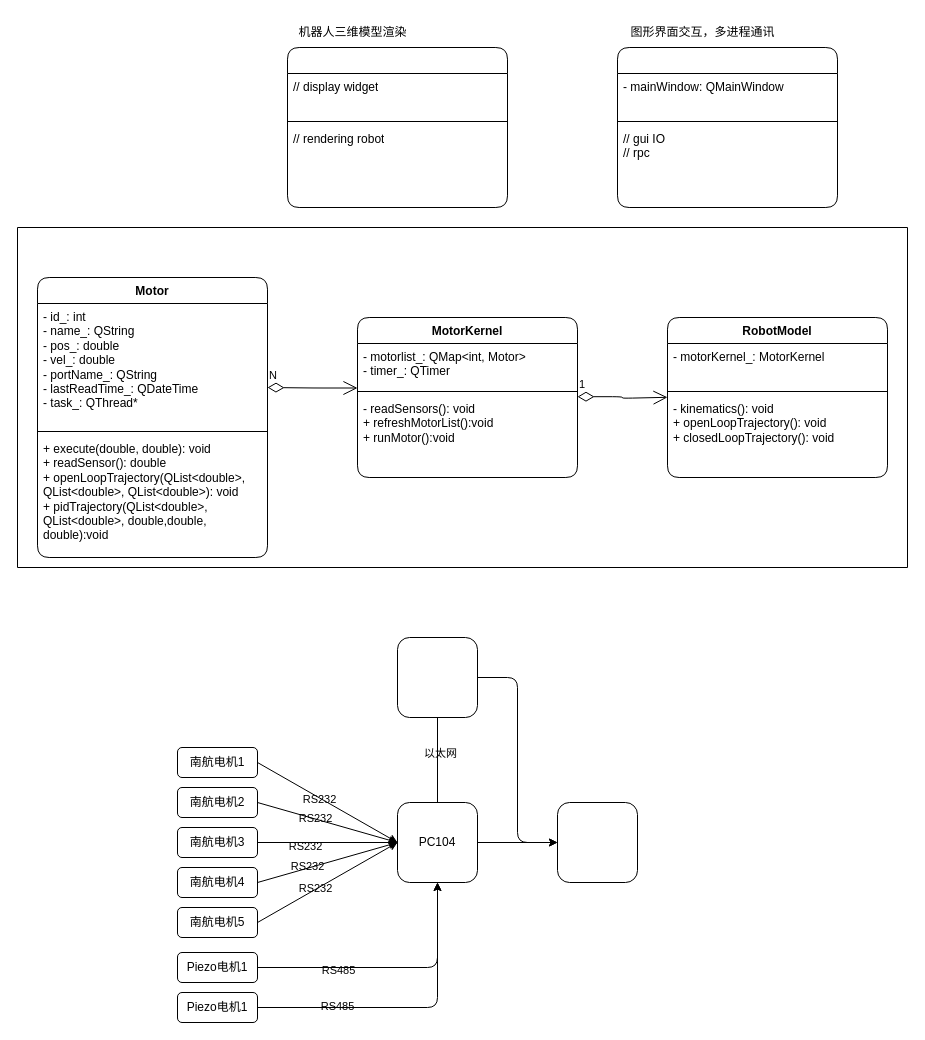
Some shapes in this 925 by 1040 pixel diagram are drawn without their labels. Here are the shapes that lost their labels. From the top down, the box of each, then its label:
(286, 46, 508, 208): Viewer
(616, 46, 838, 208): IOcontroller
(16, 226, 908, 568): 机器人运动学，电机控制，串口通讯
(396, 636, 478, 718): 服务器
(556, 802, 638, 882): 显示屏
